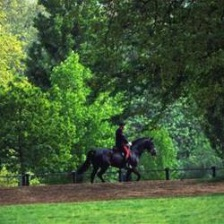neutral: (2, 2, 224, 220)
